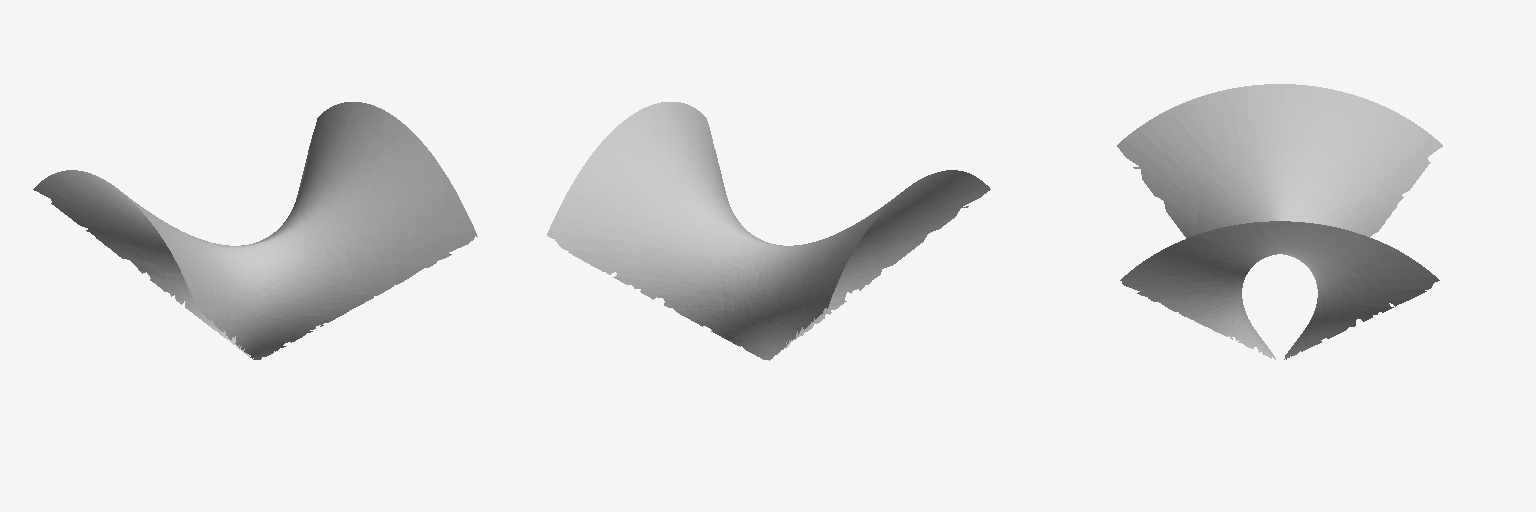
File: smooth-section2.obj
The picture shows the model from 3 angles: view 1: azimuth 30°, elevation 25°; view 2: azimuth 150°, elevation 25°; view 3: azimuth 270°, elevation 25°; orthographic projection.
Visible parts, largest first — view 1: Icosphere; view 2: Icosphere; view 3: Icosphere.
Part boxes in pixels (left/top/right/bottom): Icosphere: left=33, top=102, right=477, bottom=359; Icosphere: left=547, top=102, right=990, bottom=360; Icosphere: left=1117, top=84, right=1442, bottom=359.
Size of the model in its own units: 30.01 by 20.96 by 30.01.